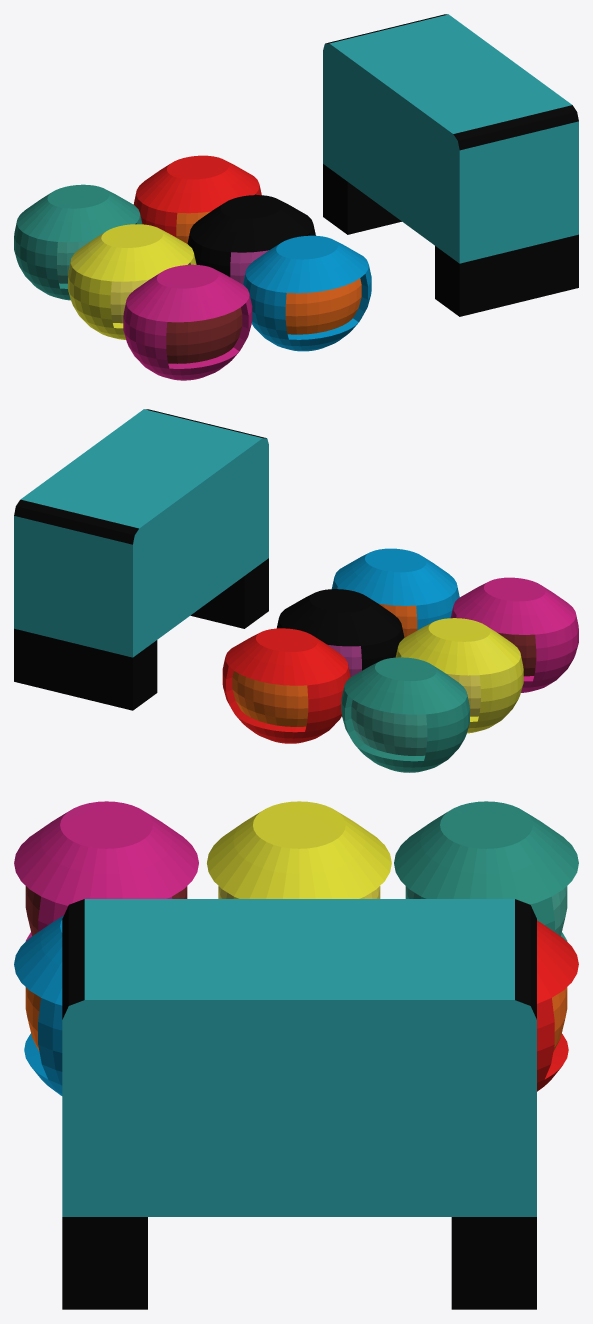
The model's file is ToiletStool & Low Poly detergents.fbx.
The picture shows the model from 3 angles, top to bottom: view 1: azimuth 30°, elevation 25°; view 2: azimuth 150°, elevation 25°; view 3: azimuth 270°, elevation 25°; orthographic projection. The views are drawn at different scales.
Parts seen in each view (by area): view 1: Cube, Sphere.005, Sphere.002, Sphere.004, Sphere.003, Sphere.001, Sphere; view 2: Cube, Sphere.003, Sphere, Sphere.005, Sphere.004, Sphere.002, Sphere.001; view 3: Cube, Sphere.005, Sphere.003, Sphere.004, Sphere.002, Sphere.
Part boxes in pixels (x1,y1,x2,y2): Cube: (323,14,578,316); Sphere.005: (123,264,252,380); Sphere.002: (243,235,371,351); Sphere.004: (68,224,196,339); Sphere.003: (14,184,142,300); Sphere.001: (187,195,315,284); Sphere: (133,155,261,243); Cube: (14,409,268,710); Sphere.003: (341,657,469,772); Sphere: (222,628,350,743); Sphere.005: (450,577,578,692); Sphere.004: (395,618,523,733); Sphere.002: (331,548,459,637); Sphere.001: (276,589,404,676); Cube: (62,899,536,1309); Sphere.005: (14,801,198,941); Sphere.003: (394,801,578,941); Sphere.004: (207,801,391,898); Sphere.002: (14,915,63,1095); Sphere: (537,920,578,1091).
Bounding box in the file's own units: 732 × 285 × 472.
